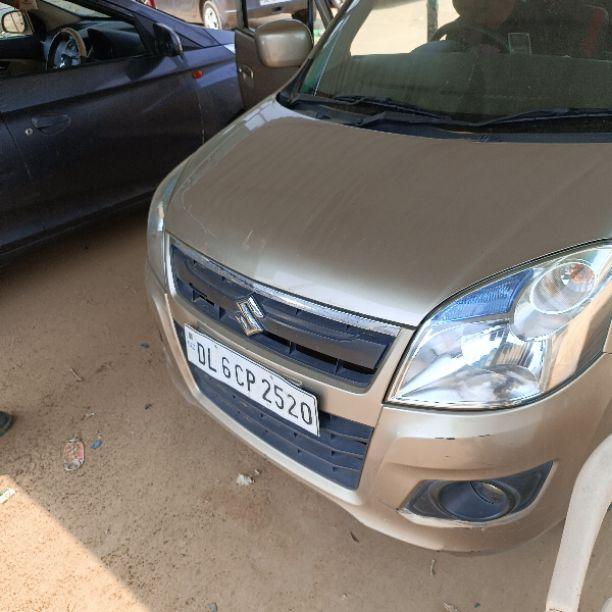license_plate: (181, 323, 320, 437)
